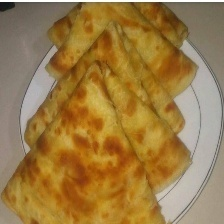roti: (3, 1, 201, 224)
